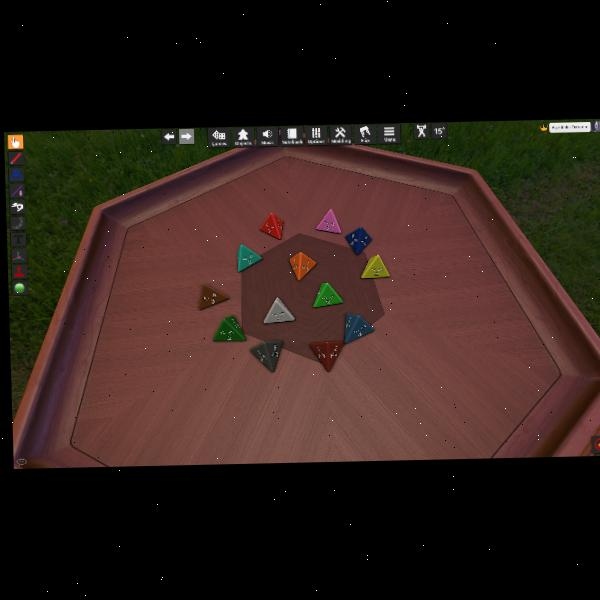d4: (250, 340, 284, 373), (343, 312, 373, 343), (311, 342, 342, 372), (344, 225, 372, 256), (262, 298, 295, 324), (212, 315, 244, 341), (198, 283, 228, 310), (313, 281, 341, 307), (236, 243, 261, 272), (289, 251, 313, 280), (315, 209, 341, 235), (360, 254, 388, 278), (259, 212, 283, 240)
